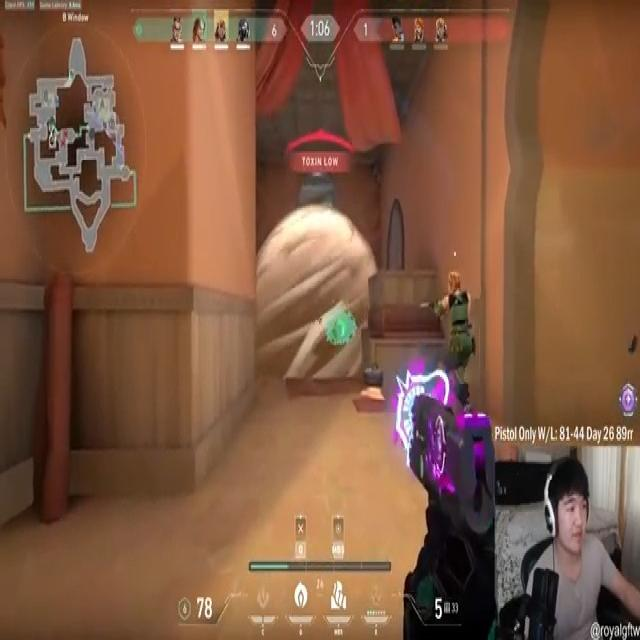ally: (436, 268, 476, 418)
smoke: (256, 209, 378, 389)
spike: (361, 360, 386, 410)
